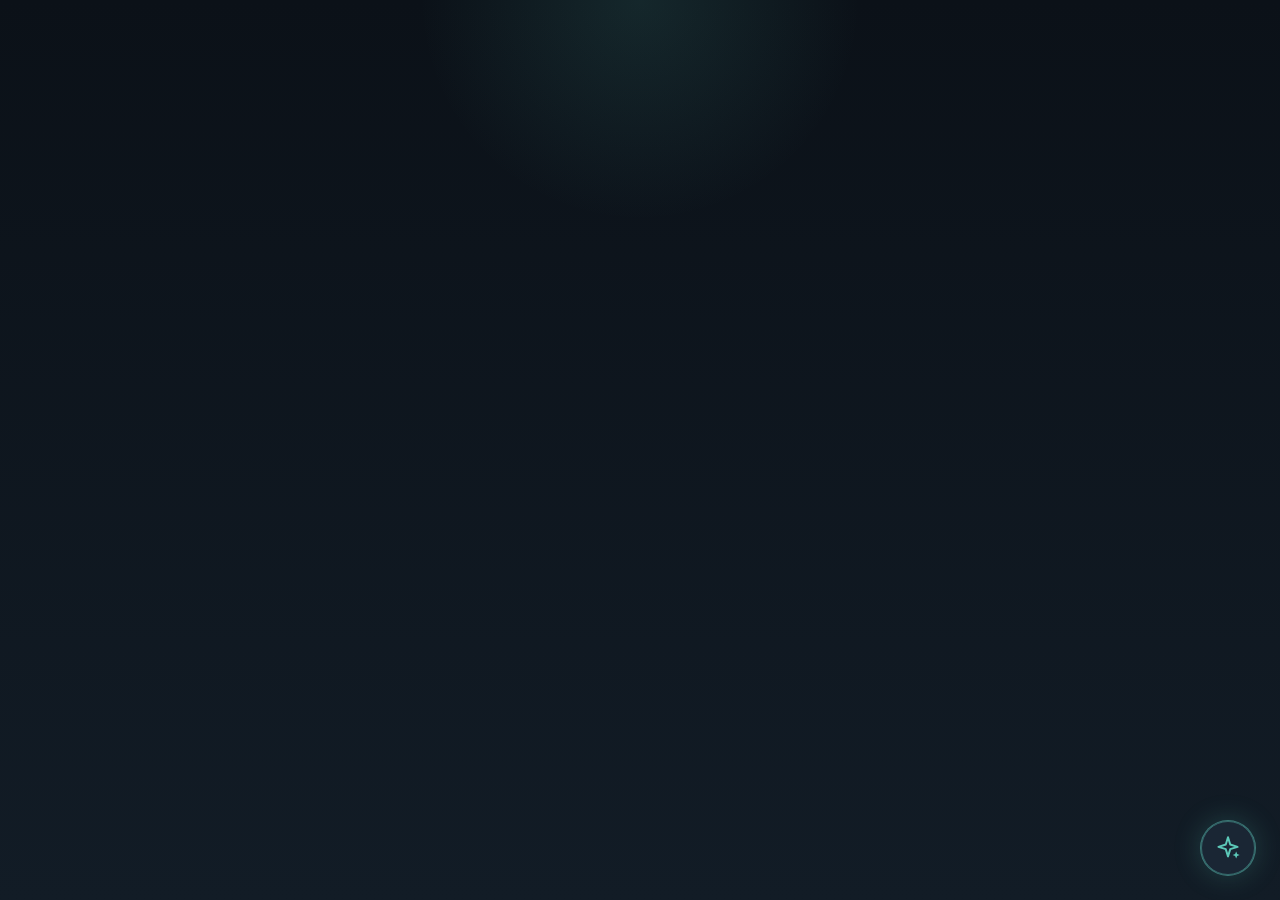
Test: ChatbotWidget › shows an offline state and retries the status check
Click the button named "open e.d.i.t.h. ai assistant" at [1228, 848], box [1200,820,1256,876]
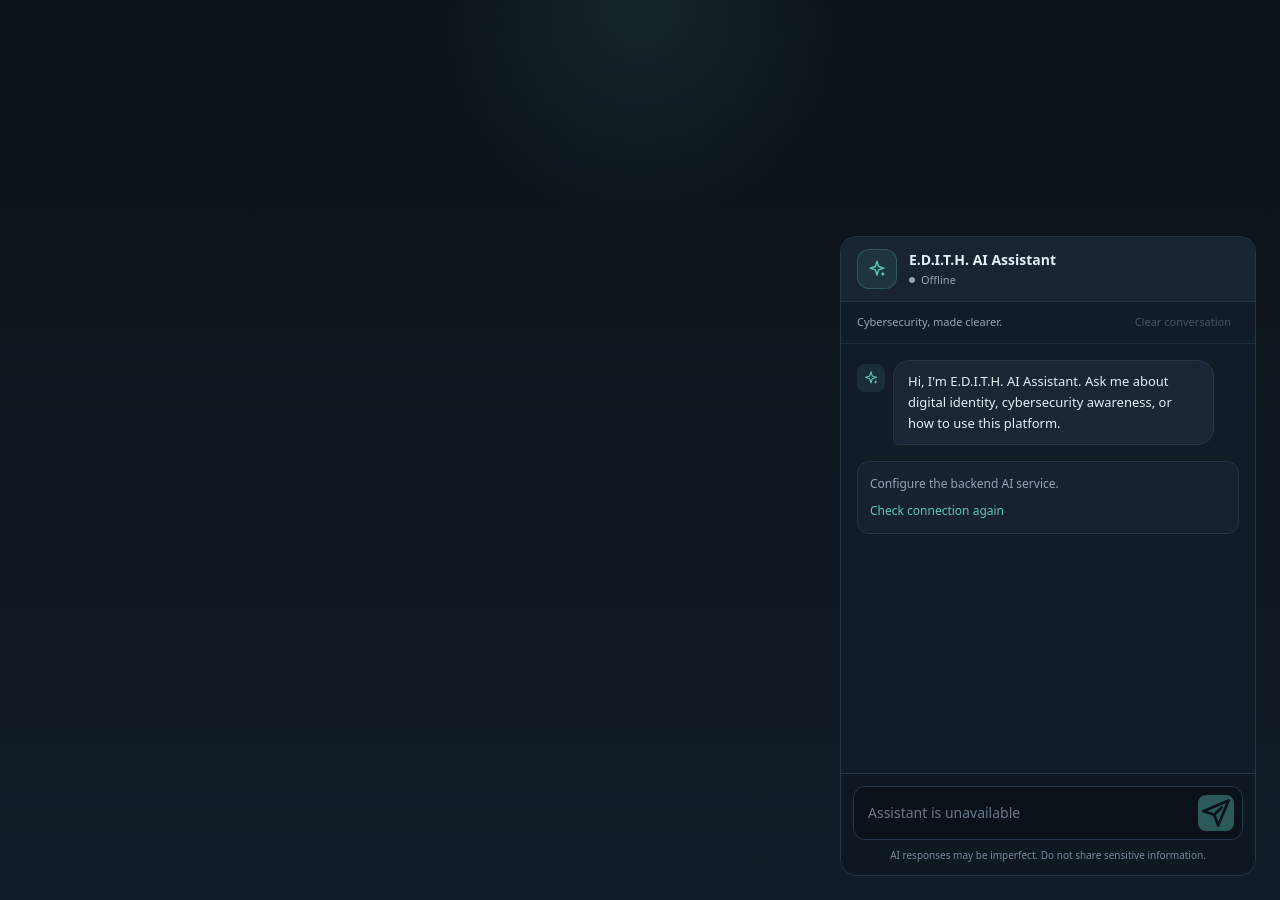
Check: the text "Configure the backend AI service." is shown, box [870,475,1059,492]
Check: the text box named "message e.d.i.t.h. ai assistant" is disabled, box [862,795,1190,831]
Click the button "Check connection again" at [937, 511], box [870,501,1004,521]
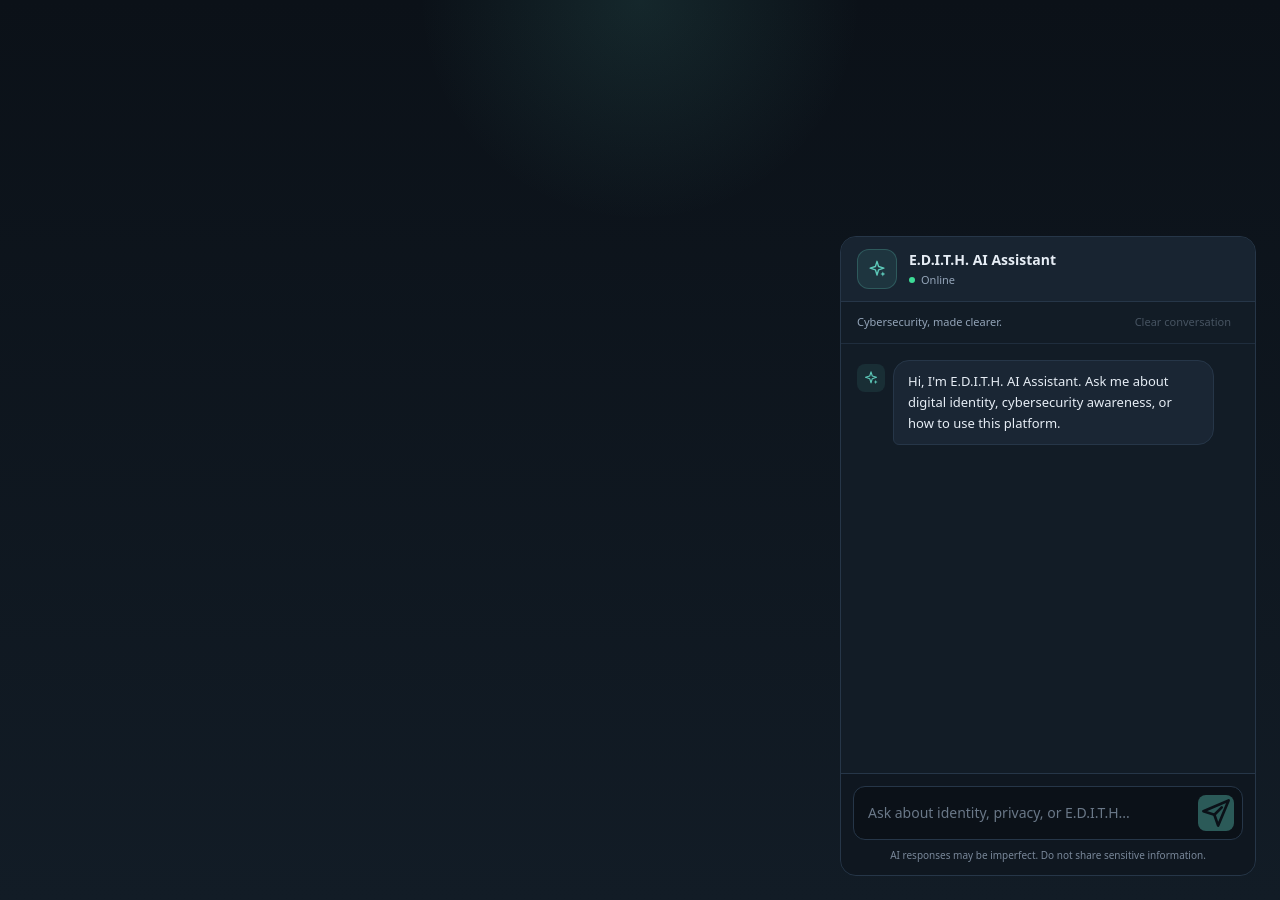
Check: the text "Online" is shown, box [921,272,955,288]
Check: the text box named "message e.d.i.t.h. ai assistant" is enabled, box [862,795,1190,831]
